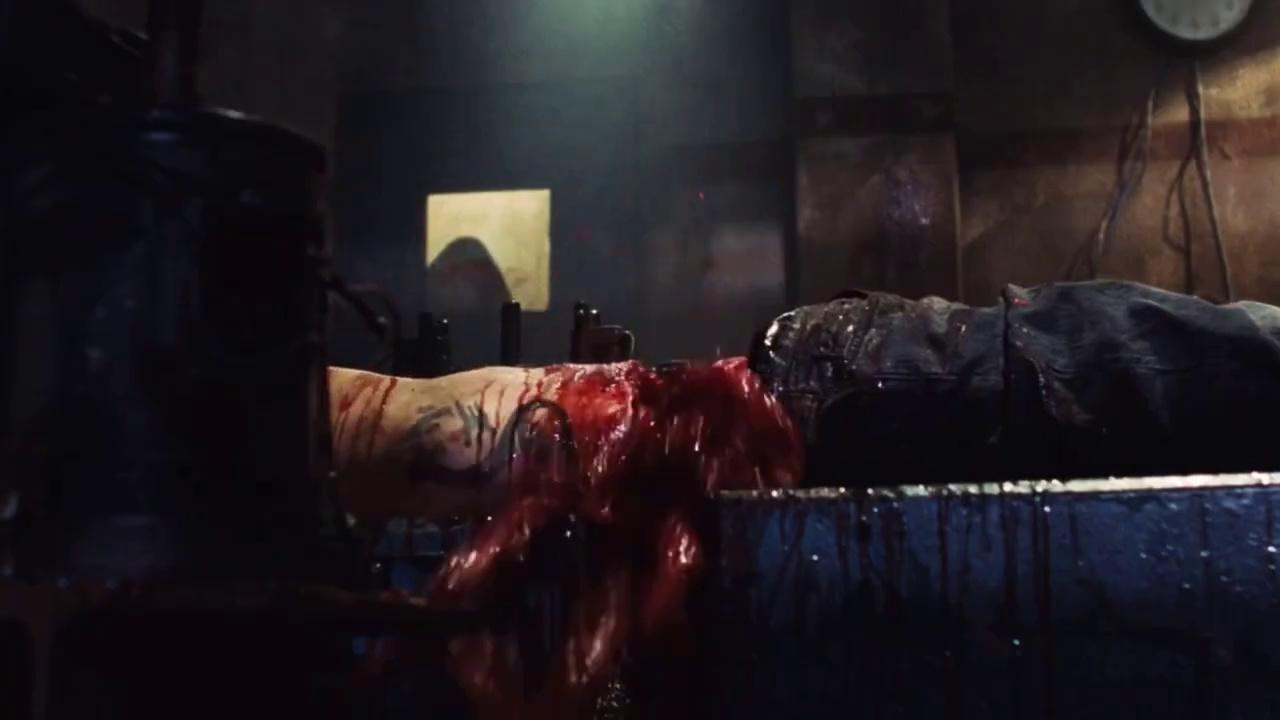Fire: (451, 358, 1161, 718), (328, 368, 414, 470)
